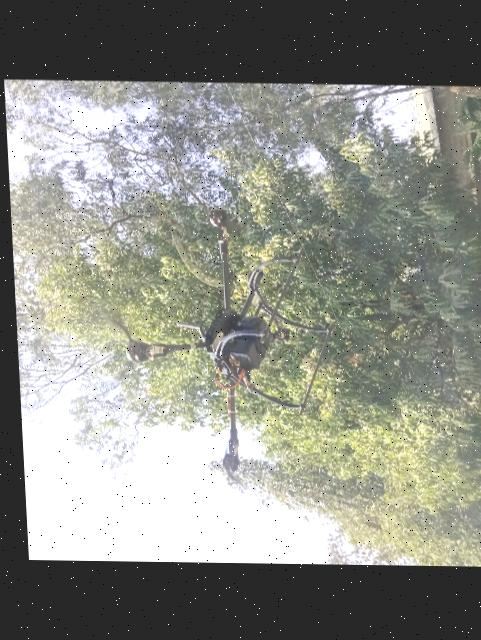drone: (80, 169, 342, 513)
